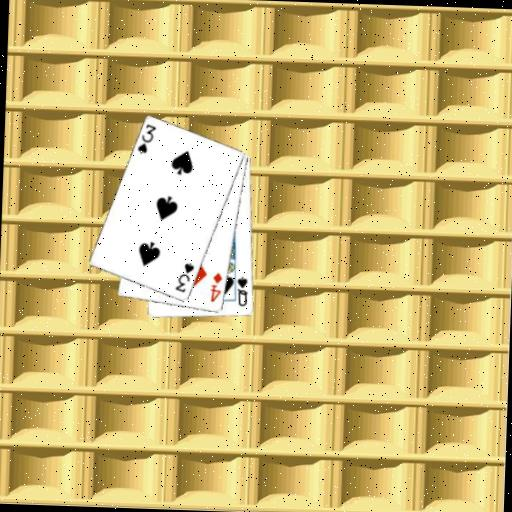3S: (171, 259, 195, 295), (134, 120, 158, 156)
4D: (207, 269, 224, 304)
QS: (234, 273, 250, 308)
